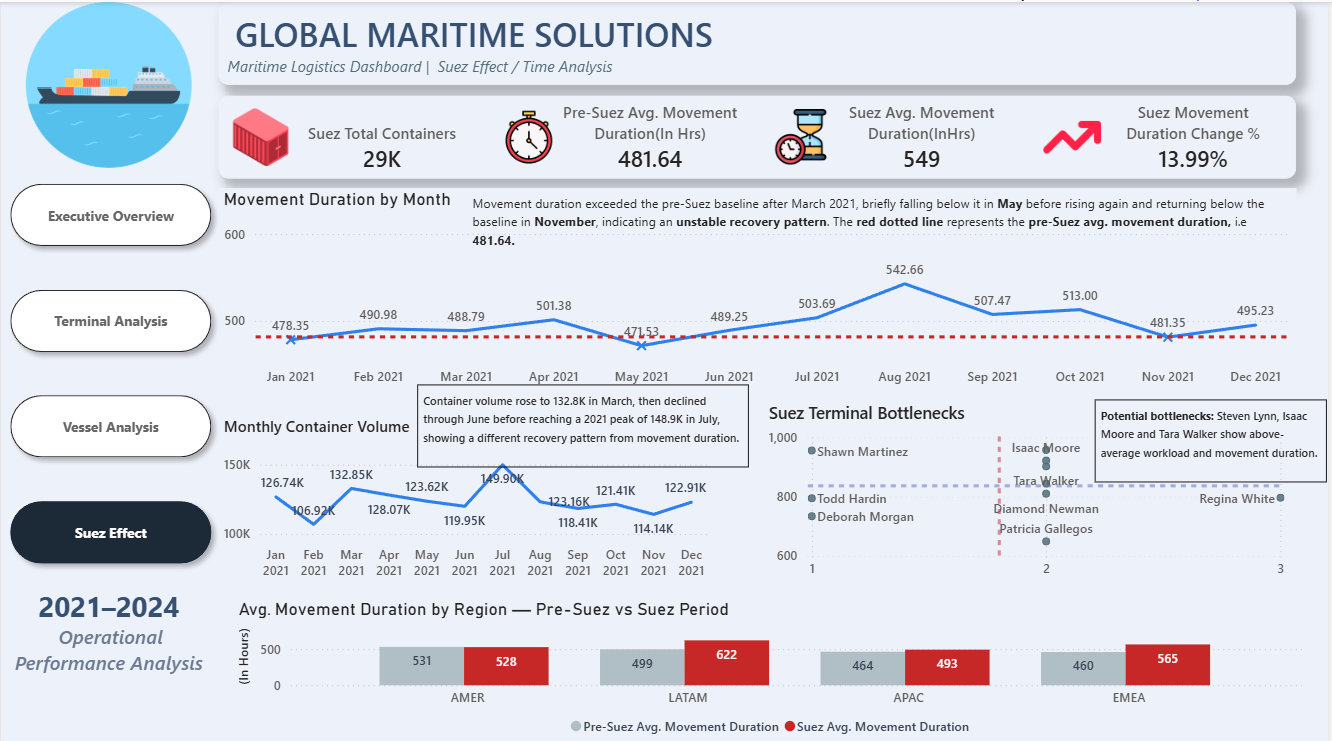

The page's visual inventory and layout, read from the dashboard file:
{"tool":"powerbi","page":{"name":"Suez Effect ","canvas":[1280,720],"ordinal":3},"visuals":[{"type":"textbox","box":[210,0,1040,80],"z":0},{"type":"lineChart","title":"Monthly Container Volume","fields":{"Category":["dim_time.Month-Year"],"Y":["Measure.Total Containers Moved"]},"box":[210,399.7,478.1,165.3],"z":0,"group":"g2"},{"type":"textbox","box":[402,369,320,80],"z":1000,"group":"g2"},{"type":"scatterChart","title":"Suez Terminal Bottlenecks","fields":{"Y":["Measure.Suez Avg. Movement Duration"],"Category":["dim_terminal.terminal_name"],"X":["Measure.Suez Total Cargo Movements"]},"box":[736,385,512,180],"z":1000},{"type":"cardVisual","fields":{"Data":["Measure.Suez Total Containers","Measure.Pre-Suez Avg. Movement Duration","Measure.Suez Avg. Movement Duration","Measure.Suez Movement Duration Change %"]},"box":[210,90,1040,80],"z":2000},{"type":"lineChart","title":"Movement Duration by Month","fields":{"Category":["dim_time.Month-Year"],"Y":["Measure.Avg.Movement Duration"]},"box":[210,180,1040,200],"z":3000,"group":"g1"},{"type":"textbox","box":[1056,384,224,80],"z":3000},{"type":"group","id":"g1","title":"Group 3","box":[210,180,1040,200],"z":4000},{"type":"textbox","box":[450,180,784,64],"z":5000,"group":"g1"},{"type":"group","id":"g2","title":"Group 1","box":[210,369,512,196],"z":5000},{"type":"clusteredColumnChart","title":"Avg. Movement Duration by Region — Pre-Suez vs Suez Period","fields":{"Category":["dim_terminal.regional_hub"],"Y":["Measure.Pre-Suez Avg. Movement Duration","Measure.Suez Avg. Movement Duration"]},"box":[224,575,1040,142],"z":6000},{"type":"group","id":"g3","title":"Group 1","box":[0,0,212,672],"z":7000},{"type":"pageNavigator","box":[0,167,212,385],"z":8000,"group":"g3"},{"type":"image","box":[0,0,208,160],"z":9000,"group":"g3"},{"type":"textbox","box":[0,560,208,112],"z":10000,"group":"g3"}]}

Visuals, with their boxes in screenshot pixels (x1, y1, x2, y2), scaled from the page's 1280x720 canvas onto the 1332x741 screenshot:
textbox: 219,0,1301,82
"Monthly Container Volume" lineChart: 219,411,716,581
textbox: 418,380,751,462
"Suez Terminal Bottlenecks" scatterChart: 766,396,1299,581
cardVisual - Measure.Suez Total Containers x Measure.Pre-Suez Avg. Movement Duration: 219,93,1301,175
"Movement Duration by Month" lineChart: 219,185,1301,391
textbox: 1099,395,1331,478
"Group 3" group: 219,185,1301,391
textbox: 468,185,1284,251
"Group 1" group: 219,380,751,581
"Avg. Movement Duration by Region — Pre-Suez vs Suez Period" clusteredColumnChart: 233,592,1315,738
"Group 1" group: 0,0,221,692
pageNavigator: 0,172,221,568
image: 0,0,216,165
textbox: 0,576,216,692
